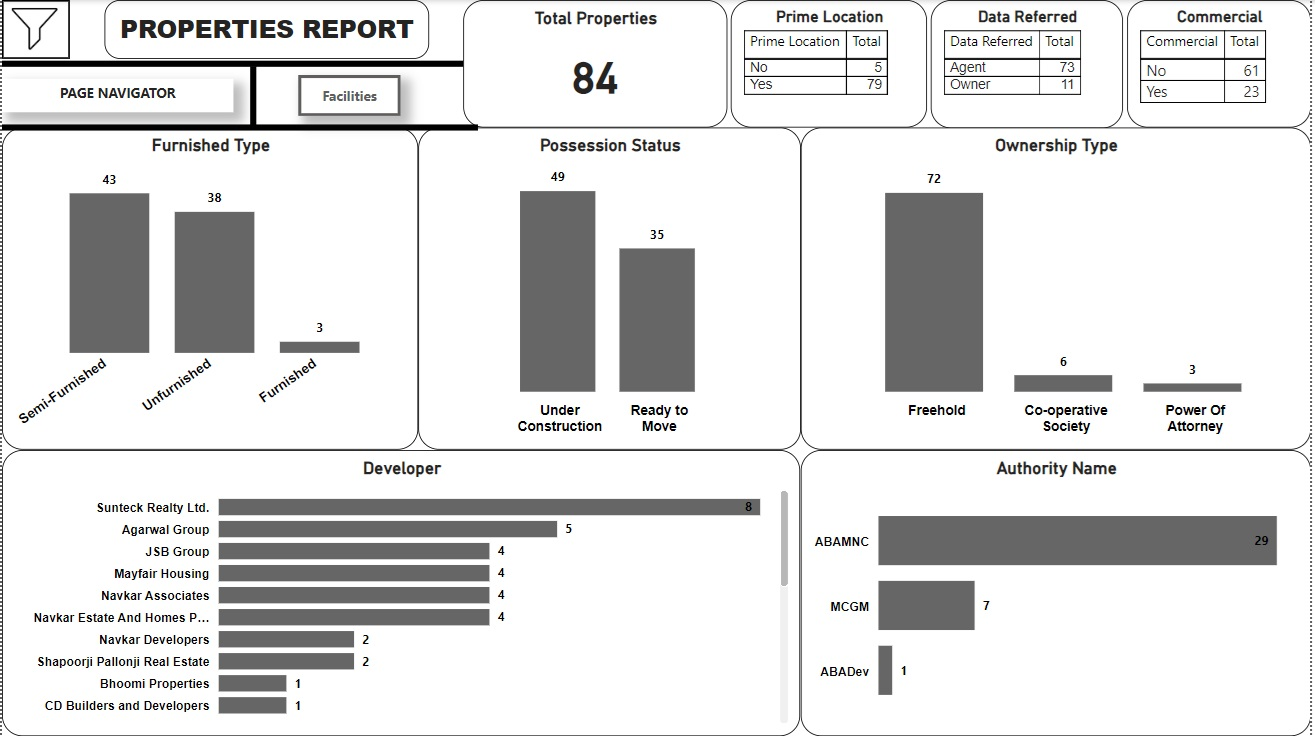

The page's visual inventory and layout, read from the dashboard file:
{"tool":"powerbi","page":{"name":"Properties","canvas":[1280,720],"ordinal":0},"visuals":[{"type":"barChart","title":"Developer","fields":{"Category":["properties.Developer"],"Y":["CountNonNull(properties.Developer)"]},"box":[0,440.1,781.2,279.6],"z":0},{"type":"barChart","title":"Authority Name","fields":{"Category":["properties.Approved Authority Name"],"Y":["CountNonNull(properties.Approved Authority Name)"]},"box":[781.2,440.1,499.1,279.6],"z":1000},{"type":"card","title":"Total Properties","fields":{"Values":["CountNonNull(properties.ID)"]},"box":[451.2,0,258,124.7],"z":2000},{"type":"columnChart","title":"Possession Status ","fields":{"Category":["properties.Possession Status"],"Y":["CountNonNull(properties.Possession Status)"]},"box":[407.2,124.7,374.2,315.5],"z":3000},{"type":"columnChart","title":"Furnished Type","fields":{"Category":["properties.furnished Type"],"Y":["CountNonNull(properties.furnished Type)"]},"box":[0,124.7,407.2,315.5],"z":4000},{"type":"tableEx","title":"Commercial","fields":{"Values":["properties.Commercial","CountNonNull(properties.Commercial)"]},"box":[1100.2,0,179.8,124.7],"z":5000},{"type":"textbox","box":[99.7,0,317.9,57.5],"z":6000},{"type":"tableEx","title":"Data Referred","fields":{"Values":["properties.Data Referred From","CountNonNull(properties.Data Referred From)"]},"box":[908.9,0,187.8,125.2],"z":7000},{"type":"columnChart","title":"Ownership Type","fields":{"Category":["properties.Ownership Type"],"Y":["CountNonNull(properties.Ownership Type)"]},"box":[781.4,124.7,498.9,315.5],"z":8000},{"type":"tableEx","title":"Prime Location","fields":{"Values":["properties.isPrimeLocationProperty","CountNonNull(properties.isPrimeLocationProperty)"]},"box":[713.1,0,192,124.7],"z":9000},{"type":"image","box":[0,0,66,57.5],"z":10000},{"type":"shape","box":[0,47.7,451.2,29.3],"z":14000},{"type":"shape","box":[0,110.1,465.9,29.3],"z":15000},{"type":"textbox","box":[0,77,226.2,33],"z":16000},{"type":"shape","box":[212.8,64.8,66,59.9],"z":17000},{"type":"actionButton","box":[289.8,73.4,100.3,40.4],"z":18000}]}

Visuals, with their boxes in screenshot pixels (x1, y1, x2, y2), scaled from the page's 1280x720 canvas onto the 1315x736 screenshot:
"Developer" barChart: <bbox>0, 450, 803, 735</bbox>
"Authority Name" barChart: <bbox>803, 450, 1314, 735</bbox>
"Total Properties" card: <bbox>464, 0, 729, 127</bbox>
"Possession Status " columnChart: <bbox>418, 127, 803, 450</bbox>
"Furnished Type" columnChart: <bbox>0, 127, 418, 450</bbox>
"Commercial" tableEx: <bbox>1130, 0, 1314, 127</bbox>
textbox: <bbox>102, 0, 429, 59</bbox>
"Data Referred" tableEx: <bbox>934, 0, 1127, 128</bbox>
"Ownership Type" columnChart: <bbox>803, 127, 1314, 450</bbox>
"Prime Location" tableEx: <bbox>733, 0, 930, 127</bbox>
image: <bbox>0, 0, 68, 59</bbox>
shape: <bbox>0, 49, 464, 79</bbox>
shape: <bbox>0, 113, 479, 142</bbox>
textbox: <bbox>0, 79, 232, 112</bbox>
shape: <bbox>219, 66, 286, 127</bbox>
actionButton: <bbox>298, 75, 401, 116</bbox>
